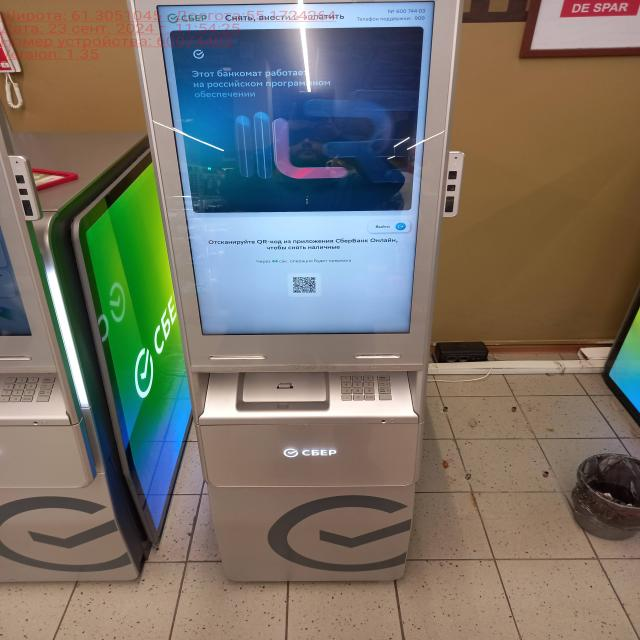bank: (121, 0, 458, 587), (0, 129, 194, 578)
